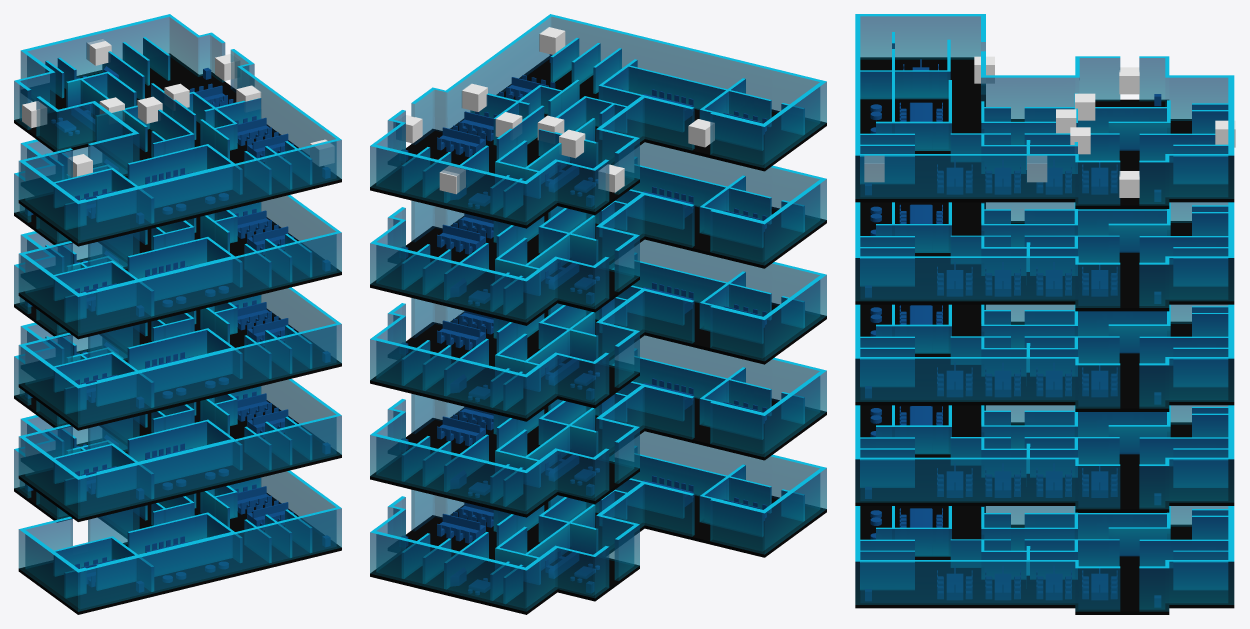
File: floorPlanAnim.glb
3 renders of one model, left to right at view 1: azimuth 30°, elevation 25°; view 2: azimuth 150°, elevation 25°; view 3: azimuth 270°, elevation 25°, orthographic. The views are drawn at different scales.
Parts seen in each view (by area): view 1: 2.5D Floorplan.005, 2.5D Floorplan.003, 2.5D Floorplan.001, 2.5D Floorplan.002, 2.5D Floorplan.004, FloorplanBase.005, FloorplanBase.003, FloorplanBase.004, FloorplanBase.001, FloorplanBase.002, Objects.005, Objects.003 (+9 smaller); view 2: 2.5D Floorplan.005, 2.5D Floorplan.003, 2.5D Floorplan.004, 2.5D Floorplan.001, 2.5D Floorplan.002, FloorplanBase.005, FloorplanBase.004, FloorplanBase.003, FloorplanBase.002, FloorplanBase.001, Objects.005, Objects.003 (+8 smaller); view 3: 2.5D Floorplan.005, 2.5D Floorplan.003, 2.5D Floorplan.004, 2.5D Floorplan.001, 2.5D Floorplan.002, FloorplanBase.005, FloorplanBase.003, FloorplanBase.004, FloorplanBase.001, FloorplanBase.002, Objects.005, Objects.002 (+8 smaller).
Boxes of the visible parts, x1=… form: 2.5D Floorplan.005: x1=14, y1=14, x2=341, y2=243; 2.5D Floorplan.003: x1=14, y1=415, x2=341, y2=611; 2.5D Floorplan.001: x1=14, y1=231, x2=341, y2=427; 2.5D Floorplan.002: x1=14, y1=322, x2=341, y2=518; 2.5D Floorplan.004: x1=14, y1=139, x2=341, y2=335; FloorplanBase.005: x1=14, y1=53, x2=341, y2=246; FloorplanBase.003: x1=14, y1=439, x2=341, y2=614; FloorplanBase.004: x1=14, y1=163, x2=341, y2=339; FloorplanBase.001: x1=14, y1=254, x2=341, y2=430; FloorplanBase.002: x1=14, y1=346, x2=341, y2=521; Objects.005: x1=51, y1=66, x2=330, y2=223; Objects.003: x1=25, y1=434, x2=330, y2=592; 2.5D Floorplan.005: x1=370, y1=14, x2=826, y2=224; 2.5D Floorplan.003: x1=370, y1=431, x2=826, y2=611; 2.5D Floorplan.004: x1=370, y1=142, x2=826, y2=322; 2.5D Floorplan.001: x1=370, y1=239, x2=826, y2=418; 2.5D Floorplan.002: x1=370, y1=335, x2=826, y2=513; FloorplanBase.005: x1=370, y1=56, x2=826, y2=228; FloorplanBase.004: x1=370, y1=205, x2=826, y2=325; FloorplanBase.003: x1=370, y1=494, x2=826, y2=614; FloorplanBase.002: x1=370, y1=397, x2=826, y2=517; FloorplanBase.001: x1=370, y1=301, x2=826, y2=421; Objects.005: x1=401, y1=54, x2=766, y2=208; Objects.003: x1=401, y1=475, x2=766, y2=594; 2.5D Floorplan.005: x1=855, y1=14, x2=1234, y2=205; 2.5D Floorplan.003: x1=855, y1=506, x2=1234, y2=611; 2.5D Floorplan.004: x1=855, y1=202, x2=1234, y2=307; 2.5D Floorplan.001: x1=855, y1=304, x2=1234, y2=408; 2.5D Floorplan.002: x1=855, y1=405, x2=1234, y2=508; FloorplanBase.005: x1=855, y1=57, x2=1234, y2=208; FloorplanBase.003: x1=855, y1=506, x2=1234, y2=614; FloorplanBase.004: x1=855, y1=202, x2=1234, y2=311; FloorplanBase.001: x1=855, y1=304, x2=1234, y2=411; FloorplanBase.002: x1=855, y1=405, x2=1234, y2=512; Objects.005: x1=865, y1=59, x2=1161, y2=201; Objects.002: x1=865, y1=406, x2=1160, y2=504.
Size of what is drawn, in the model's own units: 35.23 by 49.06 by 37.36.
16 materials, 10 textured.
